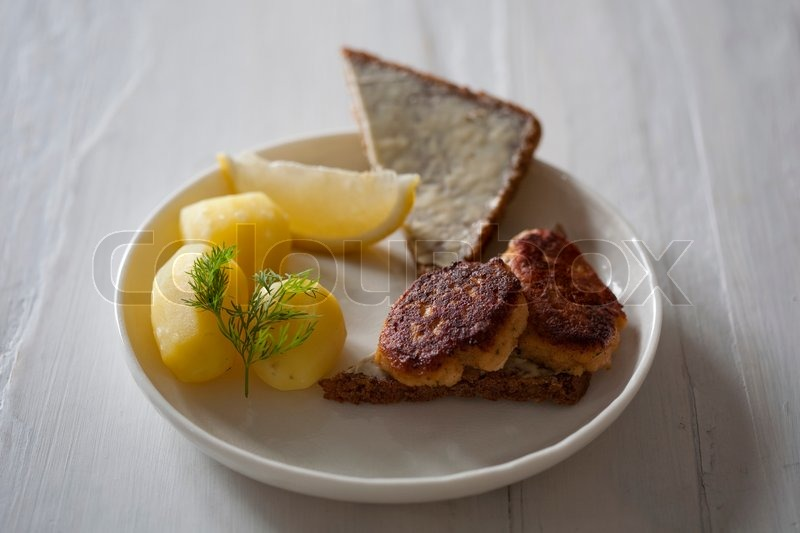boiled potatoes: (156, 244, 248, 384), (250, 283, 341, 391), (177, 191, 289, 273)
meatballs: (492, 228, 620, 370), (379, 269, 517, 386)
slice of bread: (337, 44, 543, 261), (332, 371, 591, 403)
